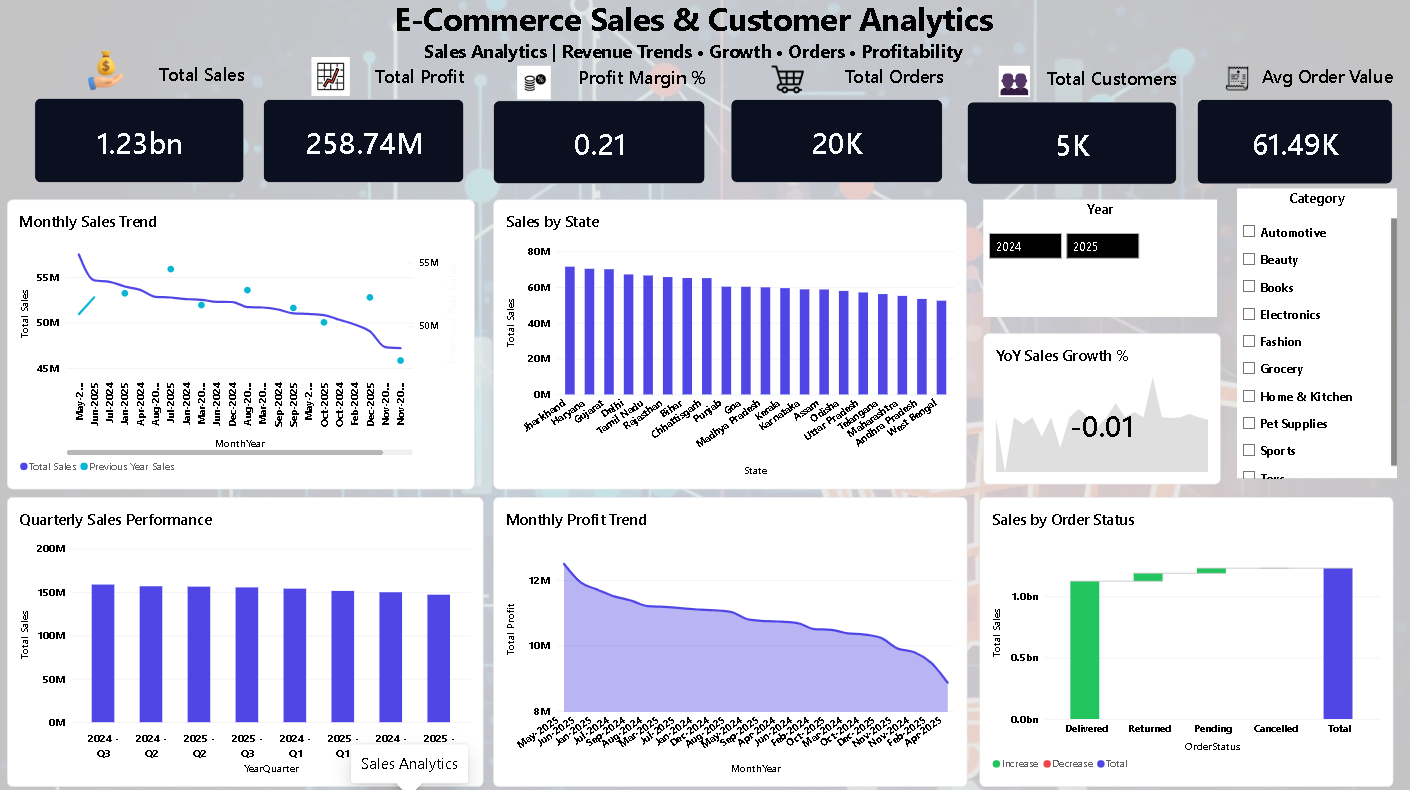

What the dashboard file says about the page in this screenshot:
{"tool":"powerbi","page":{"name":"Sales Analytics","canvas":[1920,1080],"ordinal":1},"visuals":[{"type":"textbox","box":[116.9,0,1653.1,130.2],"z":0},{"type":"cardVisual","title":"Total Sales","fields":{"Data":["FactSales.Total Sales"]},"box":[50.8,88.1,284.5,164.3],"z":1000},{"type":"cardVisual","title":"Total Profit","fields":{"Data":["FactSales.Total Profit"]},"box":[360.8,89.8,272.7,162.6],"z":2000},{"type":"cardVisual","title":"Avg Order Value","fields":{"Data":["FactSales.Average Order Value"]},"box":[1626,89.8,265.9,164.3],"z":3000},{"type":"cardVisual","title":"Total Orders","fields":{"Data":["FactSales.Total Orders"]},"box":[994.2,89.8,287.9,162.6],"z":4000},{"type":"cardVisual","title":"Profit Margin %","fields":{"Data":["FactSales.Profit Margin %"]},"box":[672.4,91.5,287.9,162.6],"z":5000},{"type":"cardVisual","title":"Total Customers","fields":{"Data":["FactSales.Total Customers"]},"box":[1314.3,93.2,284.5,160.9],"z":6000},{"type":"lineChart","title":"Monthly Sales Trend","fields":{"Category":["DimDate.MonthYear"],"Y":["FactSales.Total Sales"],"Y2":["FactSales.Previous Year Sales"]},"box":[13.5,274.4,633.5,392.9],"z":7000},{"type":"clusteredColumnChart","title":"Sales by State","fields":{"Category":["DimCustomer.State"],"Y":["FactSales.Total Sales"]},"box":[672.4,274.4,641.9,392.9],"z":8000},{"type":"slicer","title":"Year ","fields":{"Values":["DimDate.Year"]},"box":[1336.4,274.4,316.7,159.2],"z":9000},{"type":"slicer","title":"Category","fields":{"Values":["DimProduct.Category"]},"box":[1680.2,259.1,216.8,392.9],"z":10000},{"type":"image","box":[74.5,66.1,145.7,69.4],"z":11000},{"type":"image","box":[326.9,81.3,250.7,52.5],"z":12000},{"type":"image","box":[577.6,93.2,299.8,45.7],"z":13000},{"type":"image","box":[921.4,89.8,299.8,44],"z":14000},{"type":"image","box":[1238.1,93.2,281.2,42.3],"z":15000},{"type":"image","box":[1536.2,89.8,287.9,40.6],"z":16000},{"type":"clusteredColumnChart","title":"Quarterly Sales Performance","fields":{"Y":["FactSales.Total Sales"],"Category":["DimDate.YearQuarter"]},"box":[13.5,677.5,645.3,392.9],"z":17000},{"type":"areaChart","title":"Monthly Profit Trend","fields":{"Category":["DimDate.MonthYear"],"Y":["FactSales.Total Profit"]},"box":[672,677,642,393],"z":18000},{"type":"waterfallChart","title":"Sales by Order Status","fields":{"Category":["FactSales.OrderStatus"],"Y":["FactSales.Total Sales"]},"box":[1331.3,677.5,560.6,392.9],"z":19000},{"type":"kpi","title":"YoY Sales Growth %","fields":{"Indicator":["FactSales.YoY Sales Growth %"],"TrendLine":["DimDate.MonthYear"]},"box":[1336.4,455.6,321.8,204.9],"z":20000}]}

Visuals, with their boxes in screenshot pixels (x1, y1, x2, y2), scaled from the page's 1920x1080 canvas onto the 1410x790 screenshot:
textbox: 86:0:1300:95
"Total Sales" cardVisual: 37:64:246:185
"Total Profit" cardVisual: 265:66:465:185
"Avg Order Value" cardVisual: 1194:66:1389:186
"Total Orders" cardVisual: 730:66:942:185
"Profit Margin %" cardVisual: 494:67:705:186
"Total Customers" cardVisual: 965:68:1174:186
"Monthly Sales Trend" lineChart: 10:201:475:488
"Sales by State" clusteredColumnChart: 494:201:965:488
"Year " slicer: 981:201:1214:317
"Category" slicer: 1234:190:1393:477
image: 55:48:162:99
image: 240:59:424:98
image: 424:68:644:102
image: 677:66:897:98
image: 909:68:1116:99
image: 1128:66:1340:95
"Quarterly Sales Performance" clusteredColumnChart: 10:496:484:783
"Monthly Profit Trend" areaChart: 494:495:965:783
"Sales by Order Status" waterfallChart: 978:496:1389:783
"YoY Sales Growth %" kpi: 981:333:1218:483
